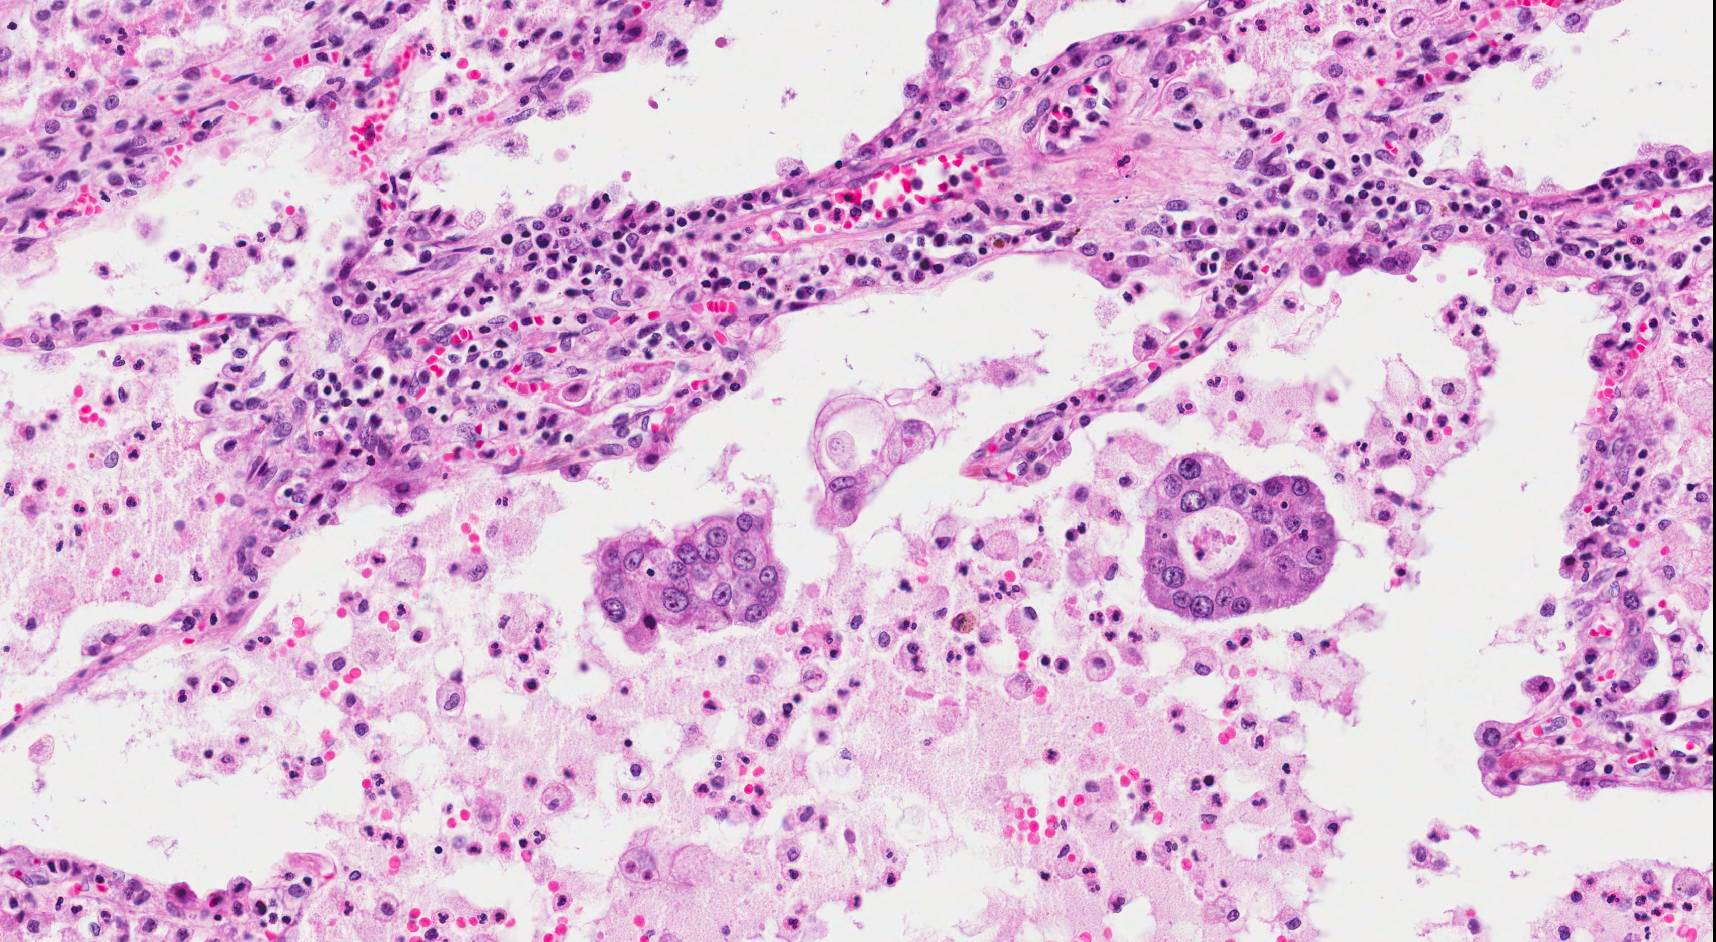stas: (1138, 450, 1336, 620), (588, 493, 785, 656), (806, 391, 942, 528)
